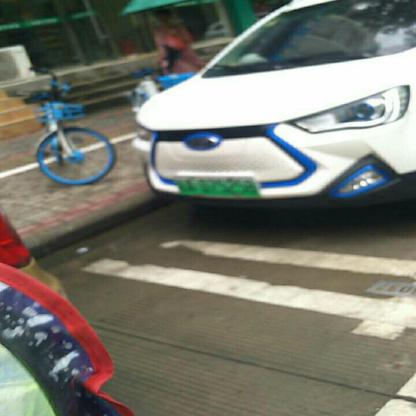lp: (176, 179, 257, 196)
